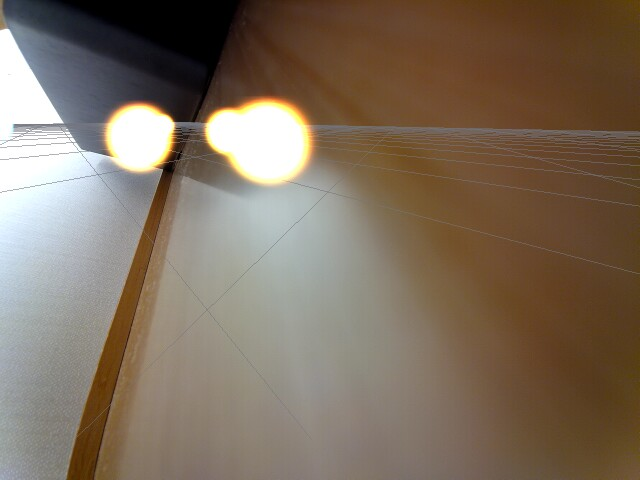firebig: (238, 91, 310, 192)
